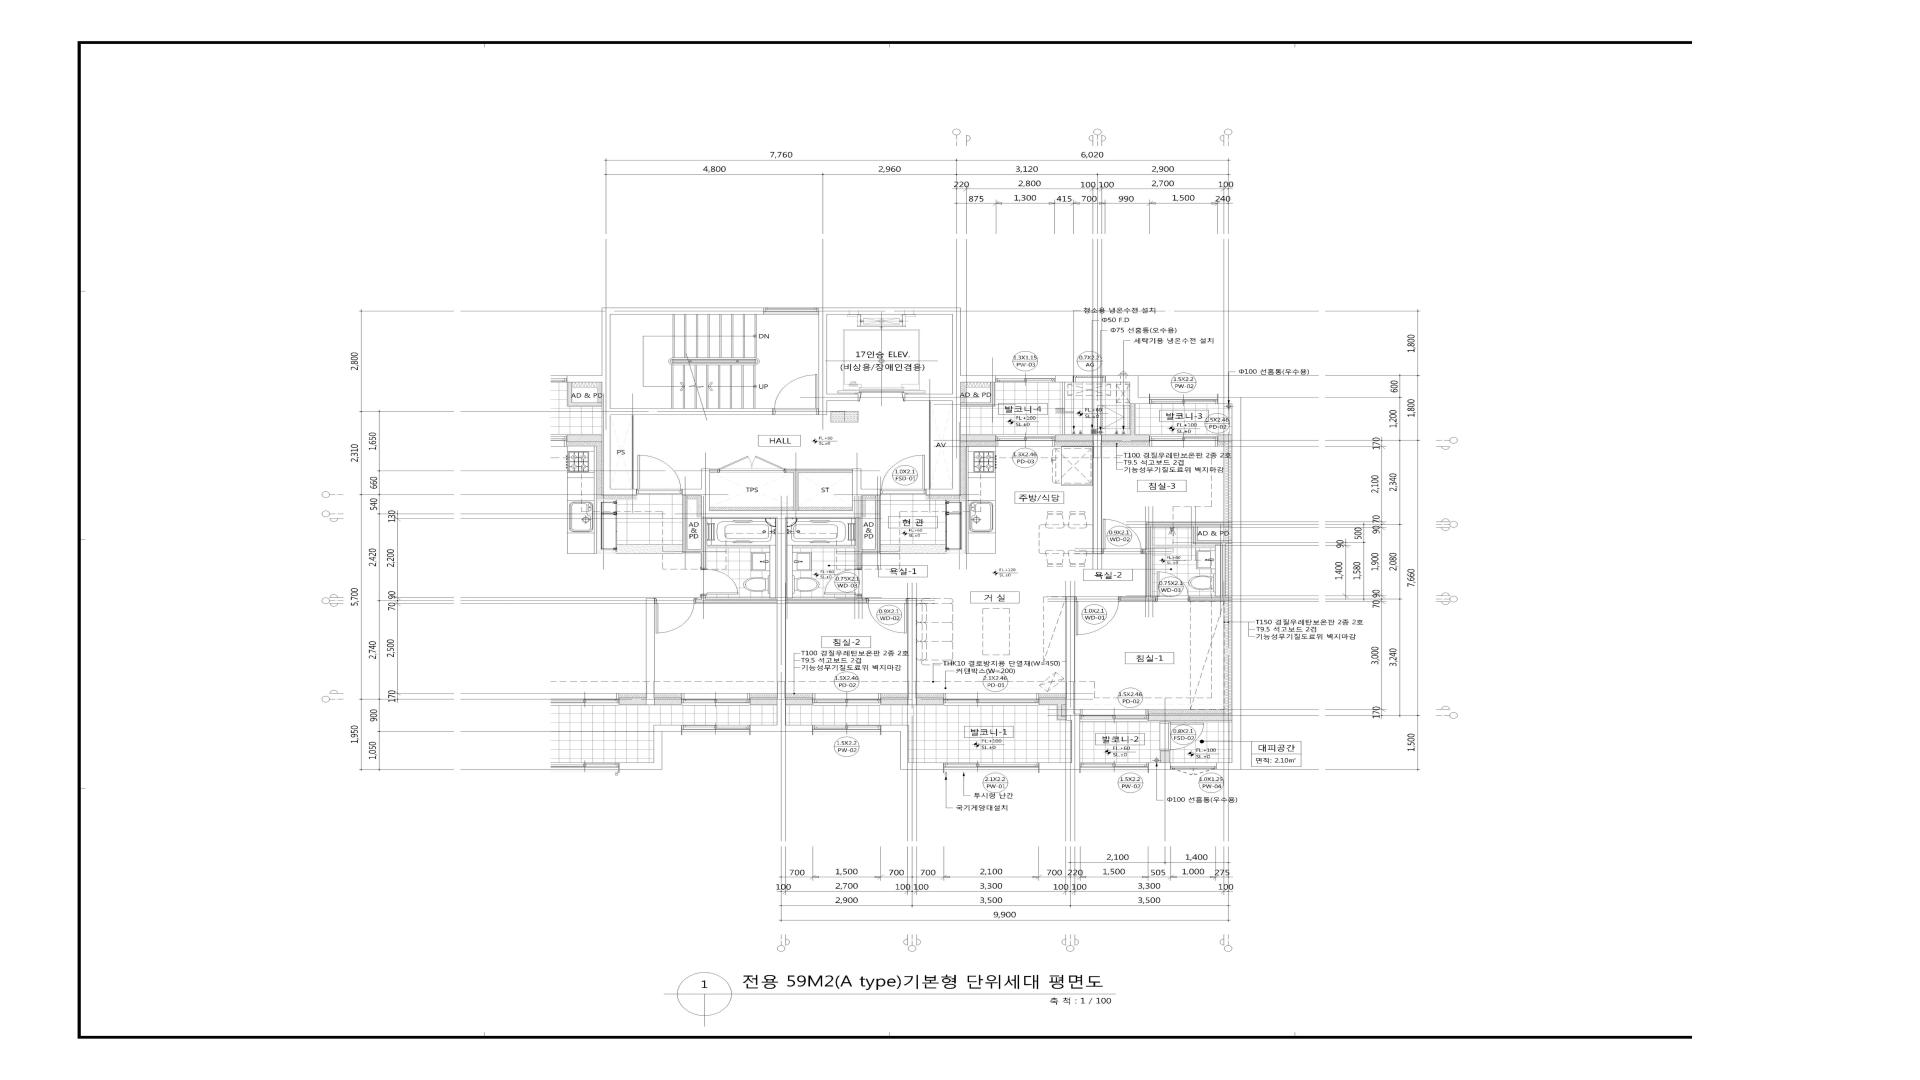door: (773, 375, 819, 415), (1075, 596, 1121, 636), (881, 455, 926, 495), (637, 455, 683, 493), (868, 599, 907, 634), (1102, 518, 1142, 554), (1159, 721, 1205, 750), (717, 456, 786, 472), (824, 568, 862, 596), (1155, 571, 1189, 601)
wall: (682, 468, 881, 732), (819, 307, 996, 496), (601, 307, 773, 496), (1216, 397, 1241, 770), (1120, 522, 1232, 601), (1039, 596, 1080, 770), (881, 725, 943, 770), (786, 469, 853, 510), (1101, 404, 1150, 442), (856, 496, 881, 568), (1105, 376, 1150, 404), (1093, 434, 1102, 554), (947, 498, 965, 554), (907, 599, 916, 705), (961, 382, 996, 406), (1149, 713, 1232, 721), (786, 595, 868, 603), (1039, 698, 1065, 720), (1055, 434, 1093, 442), (961, 434, 996, 442), (928, 401, 931, 489), (881, 698, 909, 705), (785, 698, 812, 705), (916, 698, 943, 705), (1149, 762, 1171, 770), (1159, 750, 1170, 762), (1055, 376, 1073, 382), (632, 415, 633, 489), (1217, 434, 1232, 440), (709, 469, 717, 472)
window: (943, 694, 1039, 705), (943, 762, 1039, 771), (1150, 434, 1217, 447), (812, 694, 881, 705), (1080, 709, 1149, 721), (996, 434, 1055, 447), (1080, 762, 1149, 771), (812, 725, 881, 735), (1150, 394, 1218, 404), (996, 376, 1055, 382), (1170, 762, 1216, 770), (764, 307, 819, 314), (1073, 376, 1105, 382)
